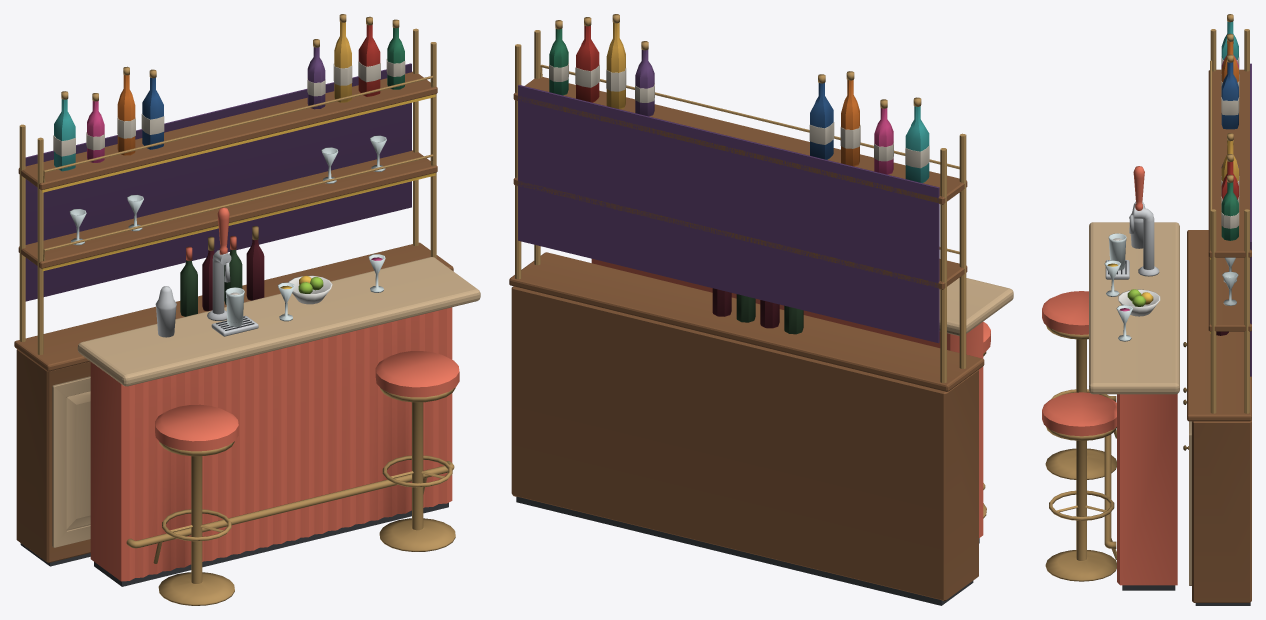
The model's file is partyBar.glb.
3 views of the same model, side by side, from view 1: azimuth 30°, elevation 25°; view 2: azimuth 150°, elevation 25°; view 3: azimuth 270°, elevation 25° (orthographic). The views are drawn at different scales.
Parts seen in each view (by area): view 1: body; view 2: body; view 3: body, lever.
Part boxes in pixels (bbox=[...]): body: bbox=[14, 14, 480, 605]; body: bbox=[509, 14, 1013, 605]; body: bbox=[1042, 14, 1251, 605]; lever: bbox=[1133, 166, 1144, 210].
Bounding box in the file's own units: 1.84 × 2 × 0.875.
